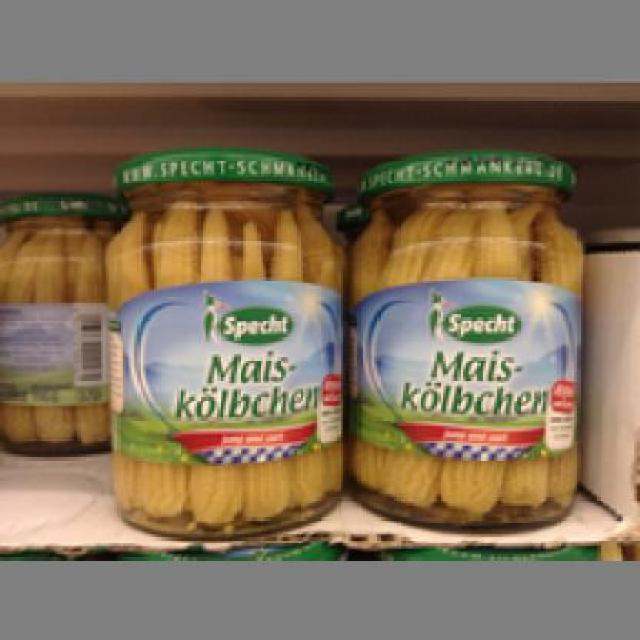Corn: (100, 146, 346, 540), (346, 150, 591, 526), (0, 190, 112, 458)
